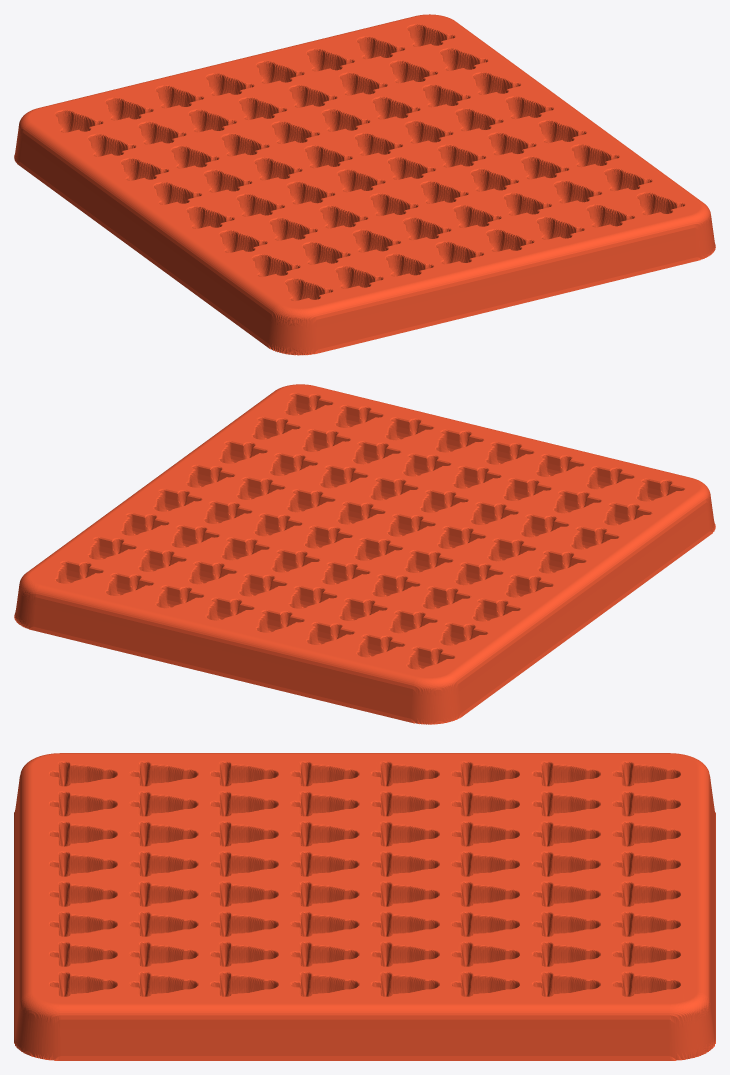
Rendered from mold.glb.
3 views of the same model, one above another, from view 1: azimuth 30°, elevation 25°; view 2: azimuth 150°, elevation 25°; view 3: azimuth 270°, elevation 25° (orthographic). The views are drawn at different scales.
Visible parts, largest first — view 1: geometry_0; view 2: geometry_0; view 3: geometry_0.
Part boxes in pixels (x1=…): geometry_0: x1=14, y1=14, x2=715, y2=355; geometry_0: x1=14, y1=384, x2=715, y2=724; geometry_0: x1=14, y1=753, x2=715, y2=1060.
Size of the model in its own units: 0.1211 by 0.0105 by 0.1355.
